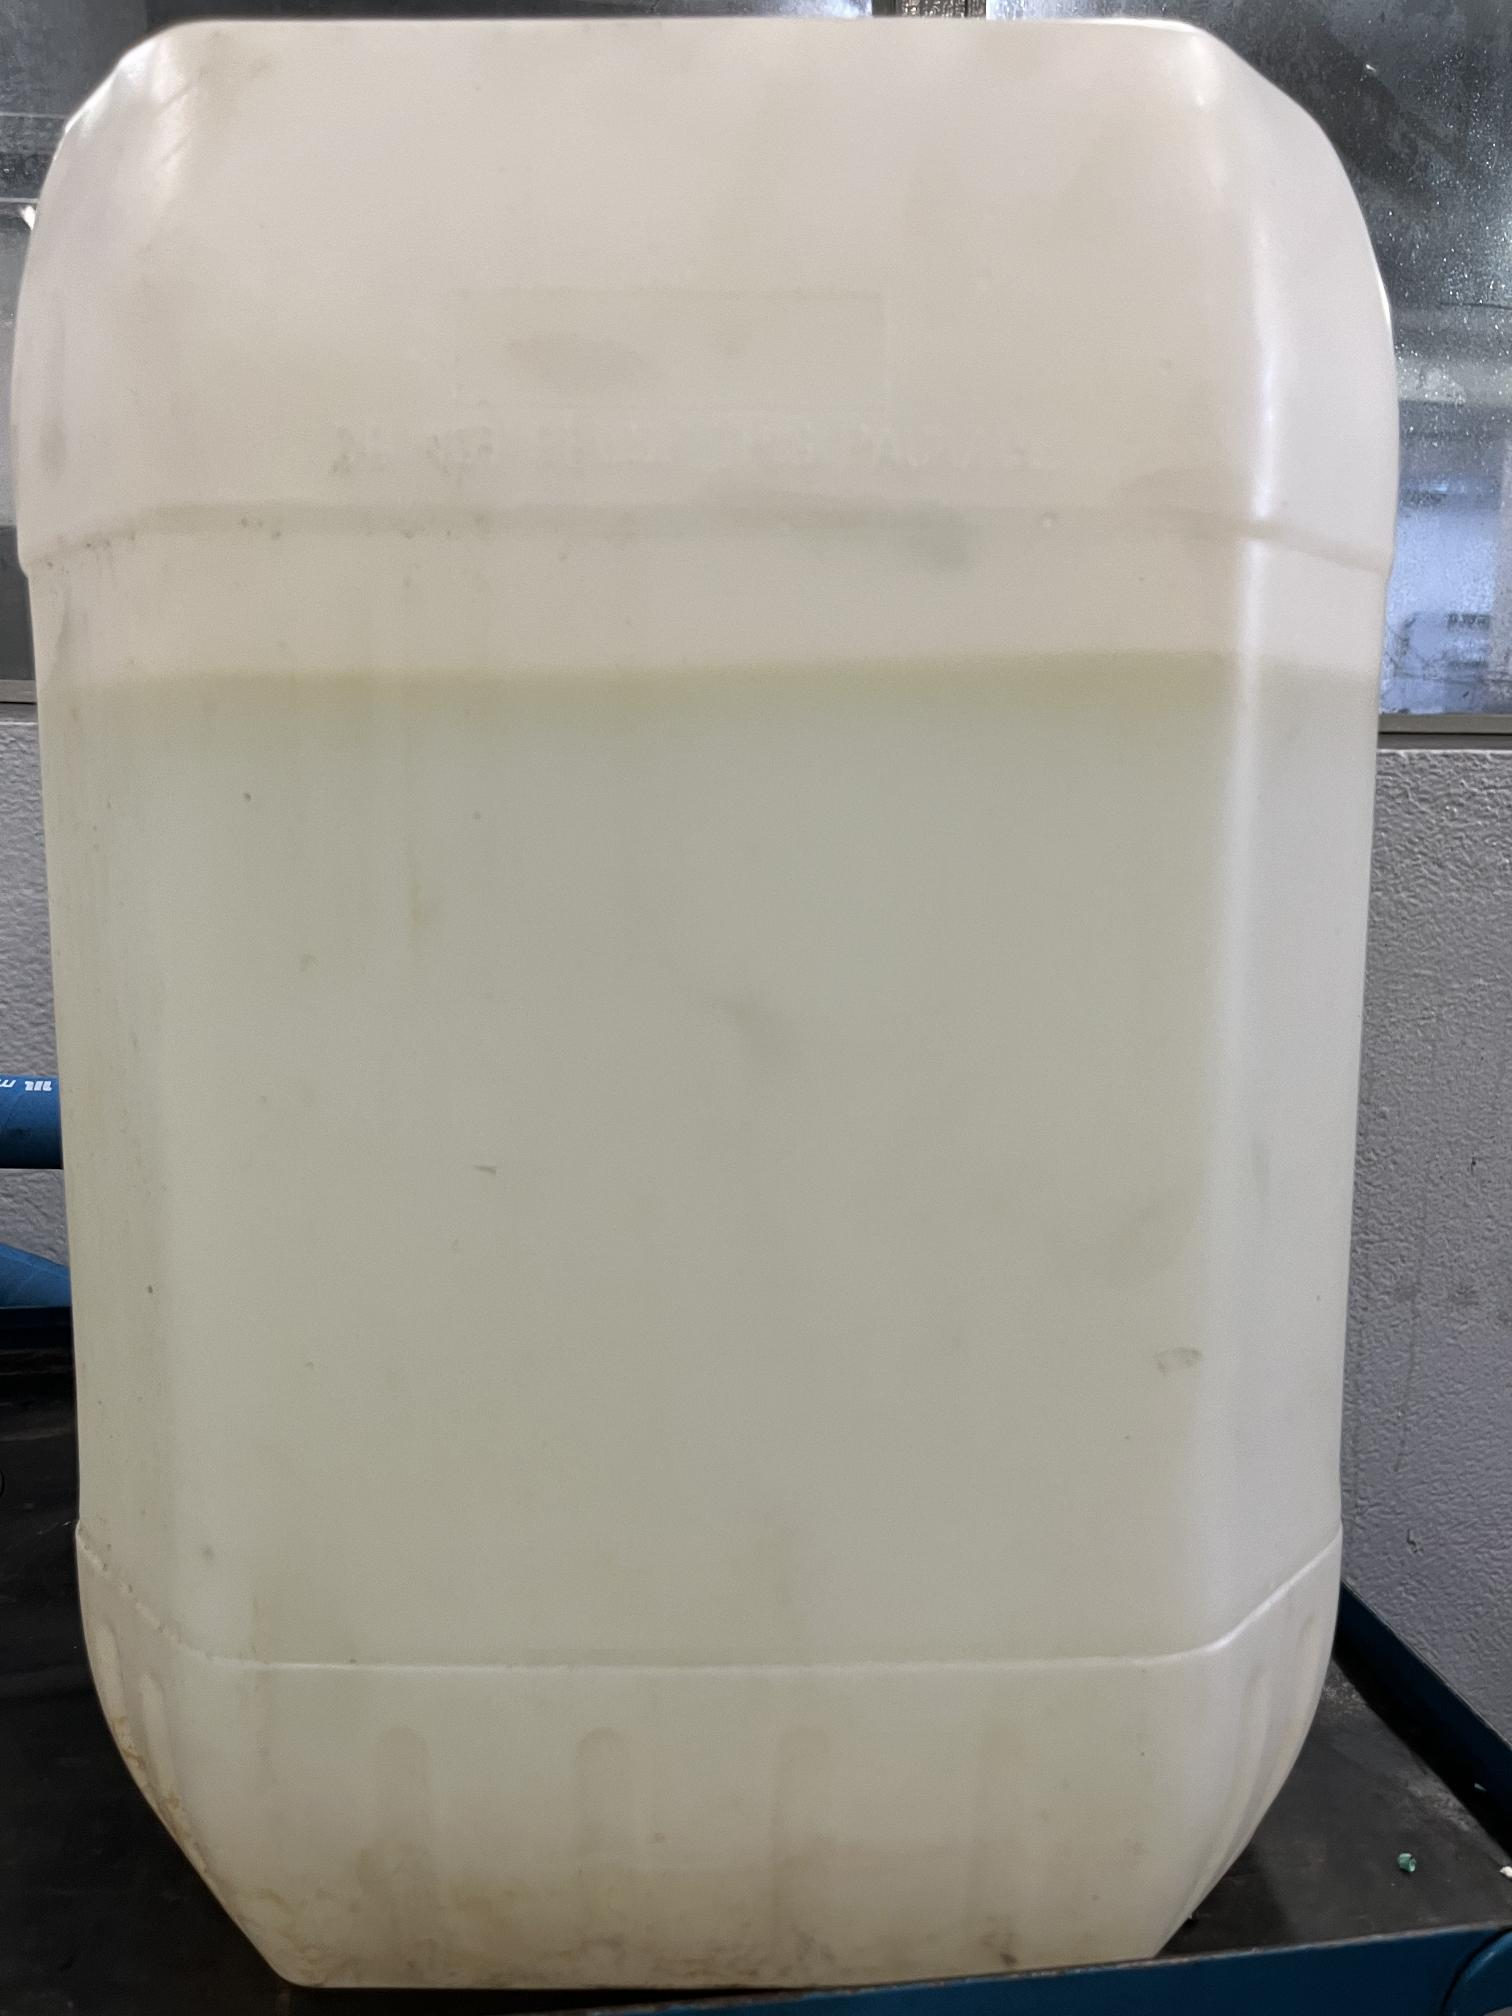Galao: (51, 79, 1355, 1957)
